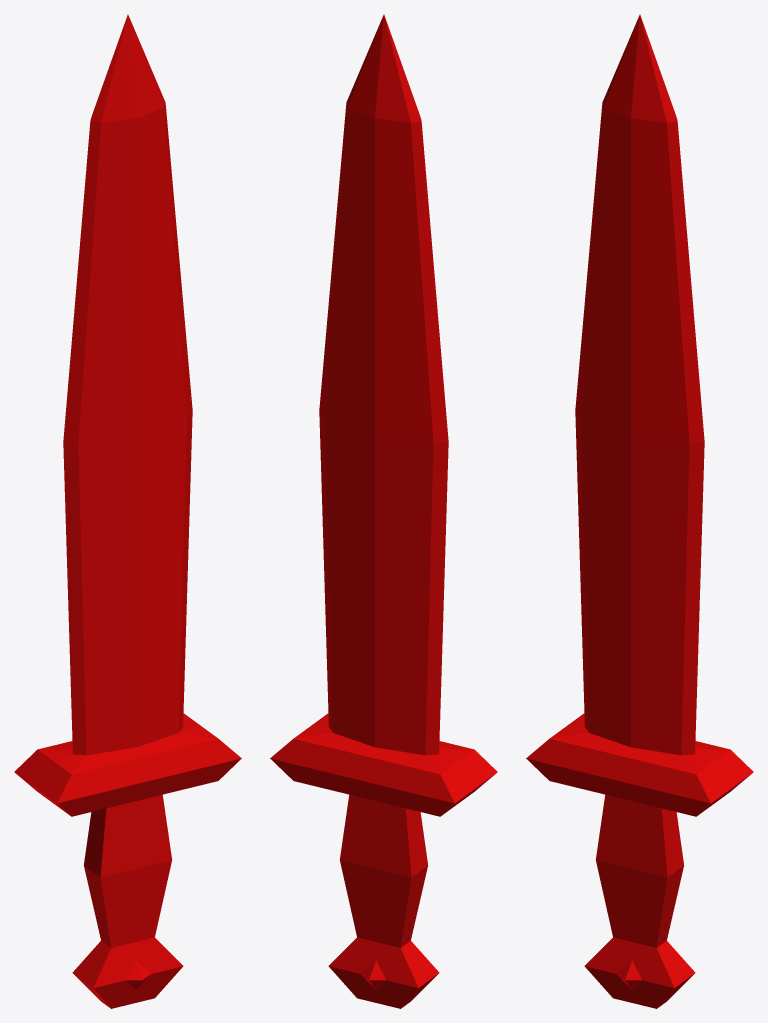
The model's file is sword.fbx.
3 views of the same model, side by side, from view 1: azimuth 30°, elevation 25°; view 2: azimuth 150°, elevation 25°; view 3: azimuth 330°, elevation 25° (orthographic).
Parts seen in each view (by area): view 1: Sword; view 2: Sword; view 3: Sword.
Part boxes in pixels (x1=…): Sword: x1=14, y1=14, x2=241, y2=1008; Sword: x1=270, y1=14, x2=497, y2=1008; Sword: x1=526, y1=14, x2=753, y2=1008.
Size of the model in its own units: 69.88 by 356 by 28.15.
